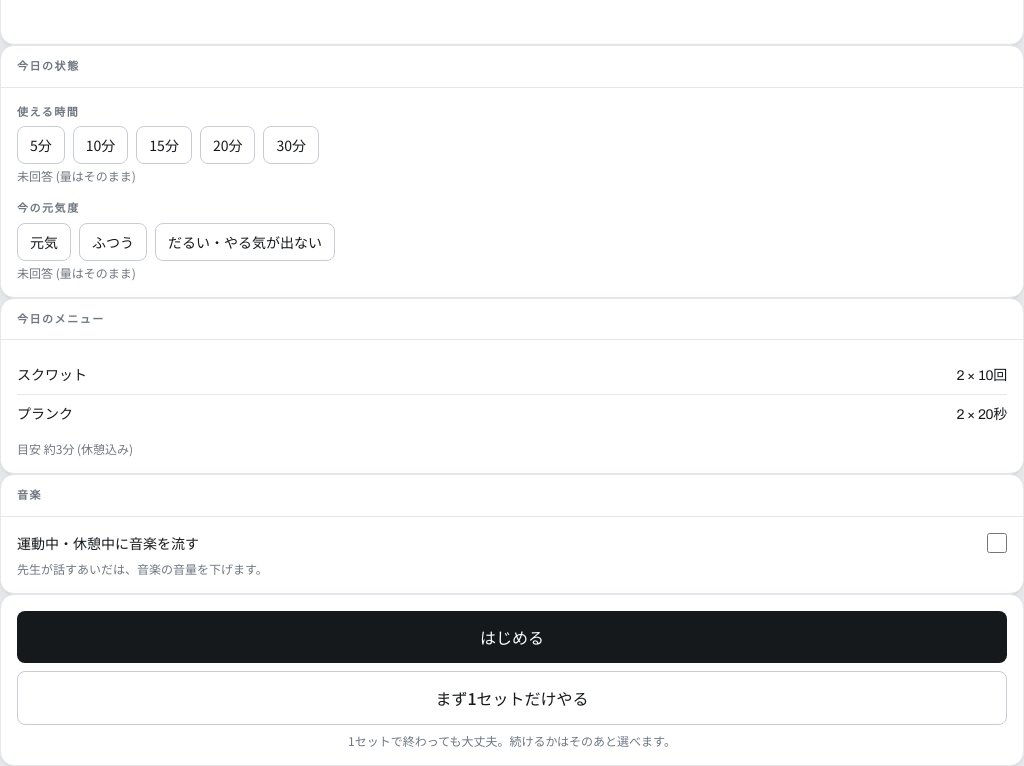
Test: prefetch › prefetches the chosen plan once, within the line budget
(page scrolled)
Click the button "はじめる". click: (512, 636)
box: [17, 610, 1007, 662]
(page scrolled)
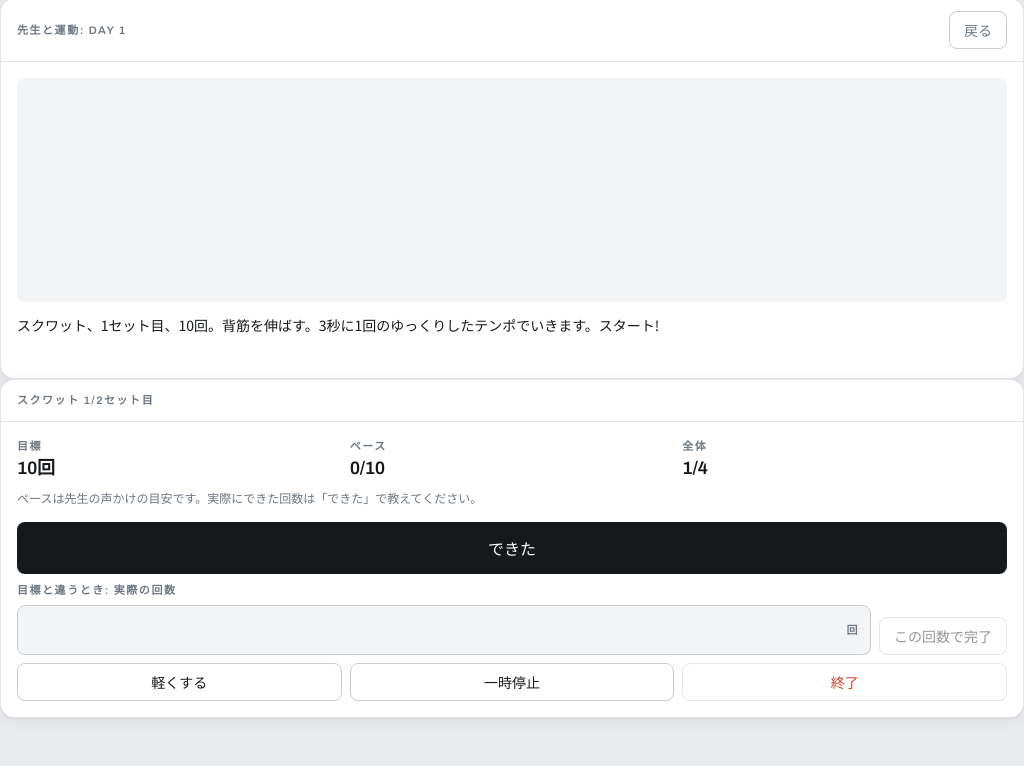
Now the button "できた" is shown, box [17, 522, 1007, 574]
